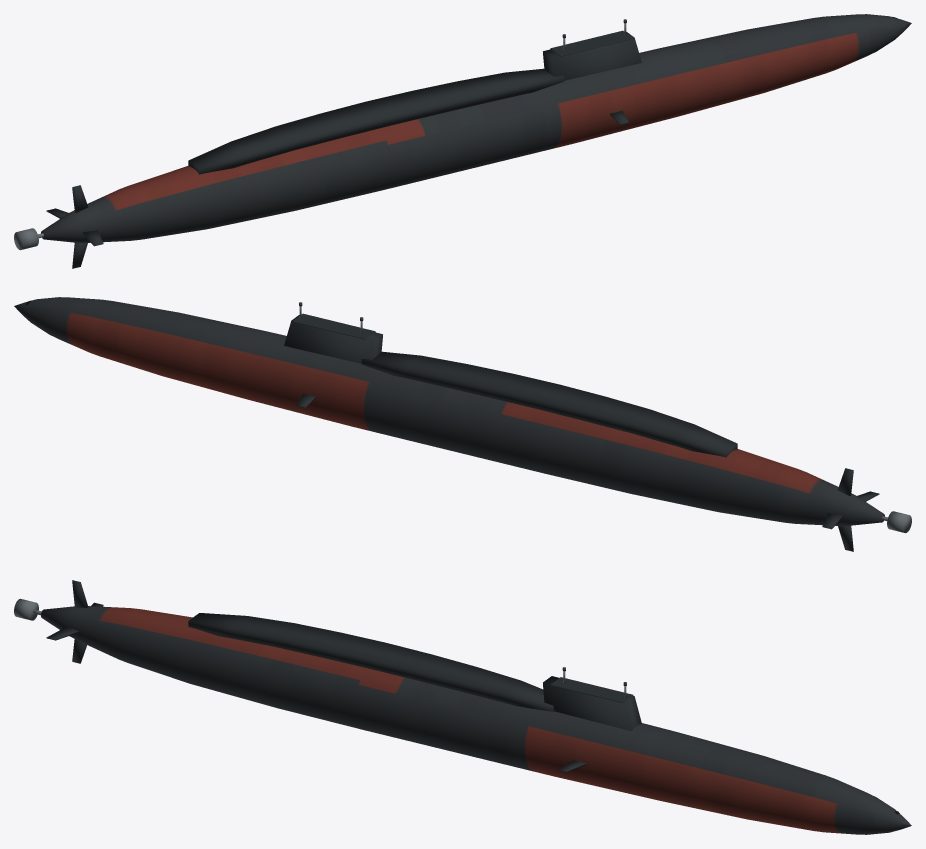
Rendered from RU_SSBN_DeltaIV_LOD2.fbx.
3 renders of one model, top to bottom at view 1: azimuth 30°, elevation 25°; view 2: azimuth 150°, elevation 25°; view 3: azimuth 330°, elevation 25°, orthographic.
Visible parts, largest first — view 1: RU_SSBN_DeltaIV_LOD2; view 2: RU_SSBN_DeltaIV_LOD2; view 3: RU_SSBN_DeltaIV_LOD2.
Part boxes in pixels (x1,y1,x2,y2): RU_SSBN_DeltaIV_LOD2: [14, 14, 911, 268]; RU_SSBN_DeltaIV_LOD2: [14, 297, 911, 551]; RU_SSBN_DeltaIV_LOD2: [14, 580, 911, 834].
Bounding box in the file's own units: 172 × 20.77 × 20.9.
Materials: 6 (1 with a texture image).
